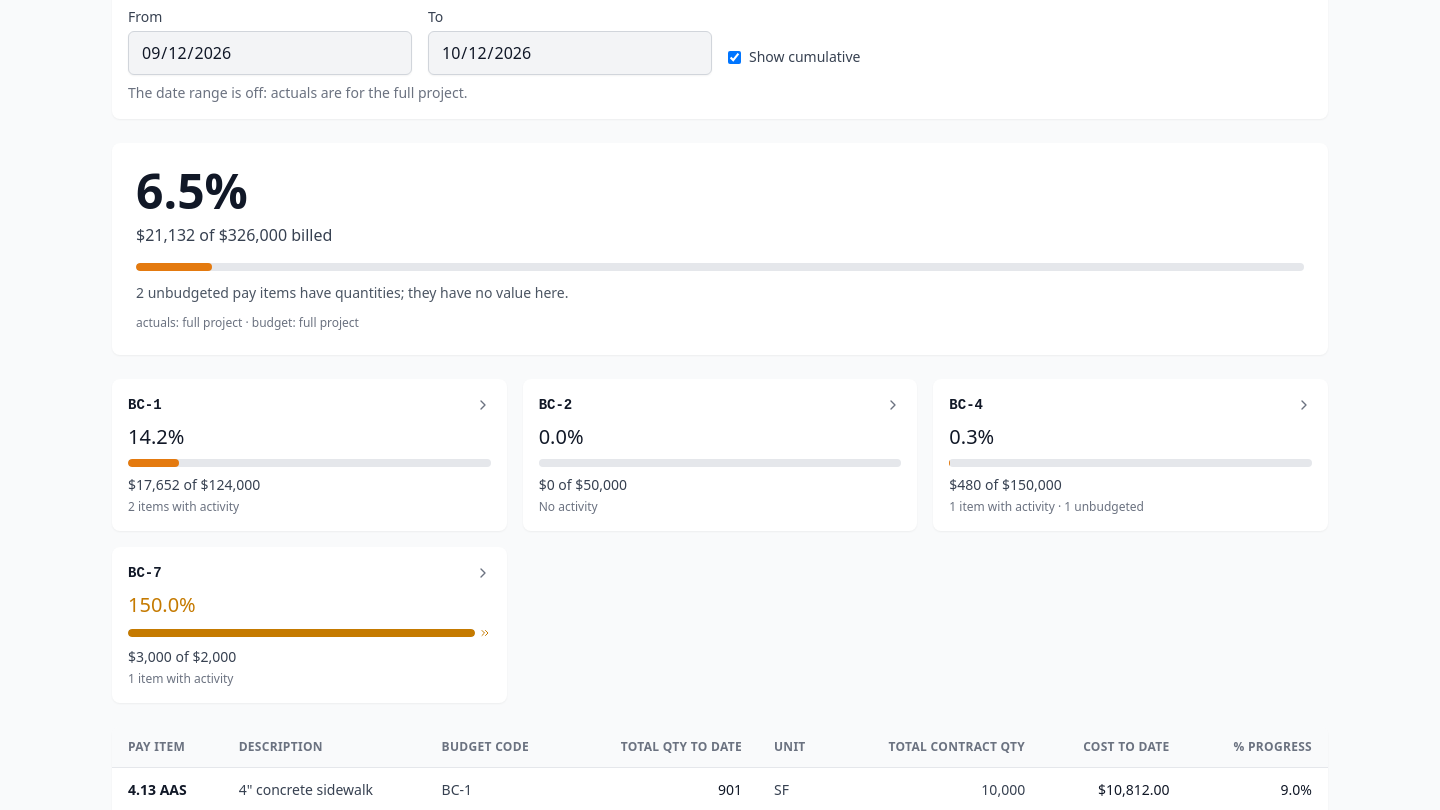
Test: ProgressPage — the budget codes › is folded to start; its name opens the items of that code, and closes them
This screenshot has width=1440, height=810.
(page scrolled)
Step 1. Click the button "BC-1" → (145, 405), box [128, 395, 491, 415]
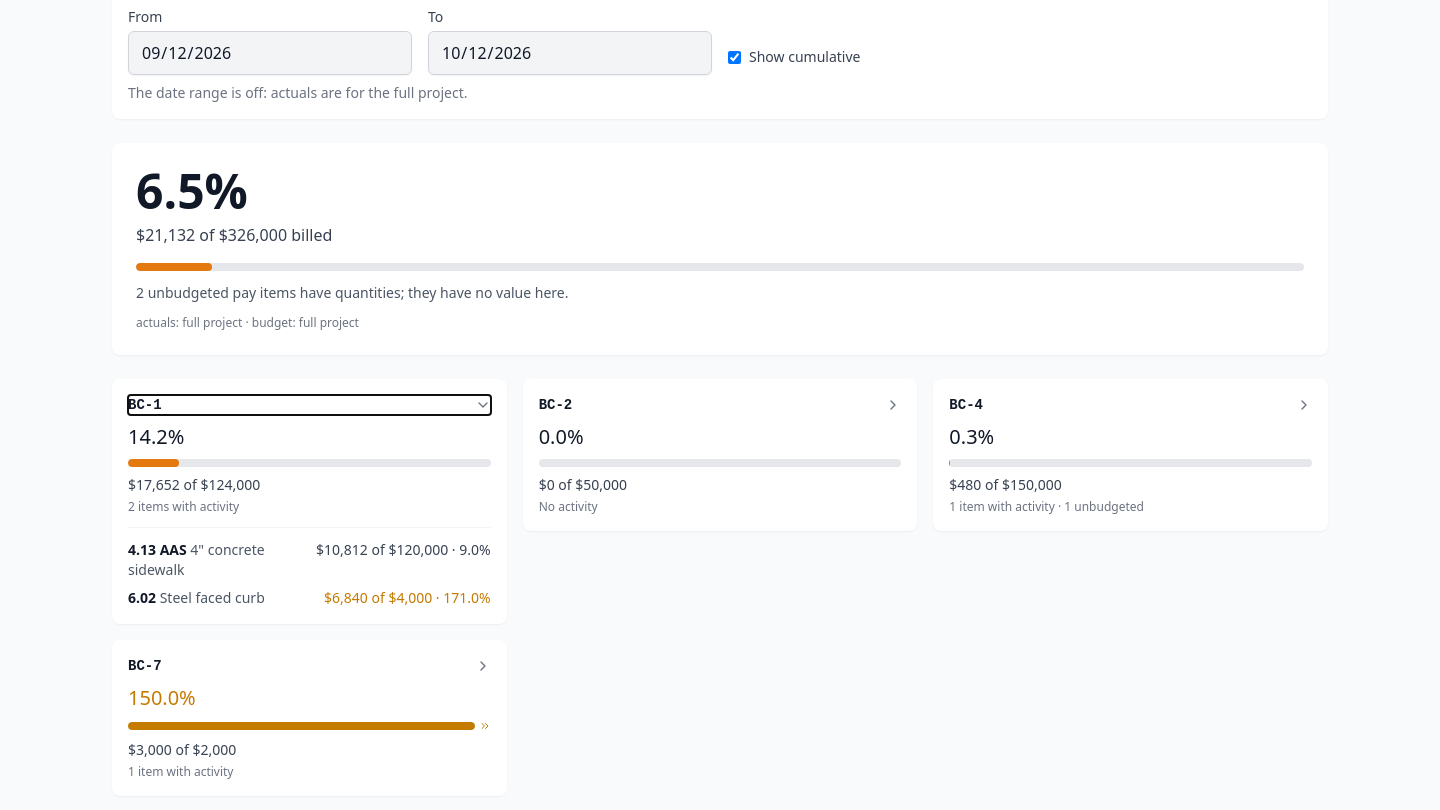
Check: the button "BC-1" is expanded
Check: the list items read "4.13 AAS 4\" concrete sidewalk$10,812 of $120,000 · 9.0%", "6.02 Steel faced curb$6,840 of $4,000 · 171.0%", in this order, box [128, 540, 491, 580]; [128, 588, 491, 608]
Step 2. Click the button "BC-1" → (145, 405), box [128, 395, 491, 415]
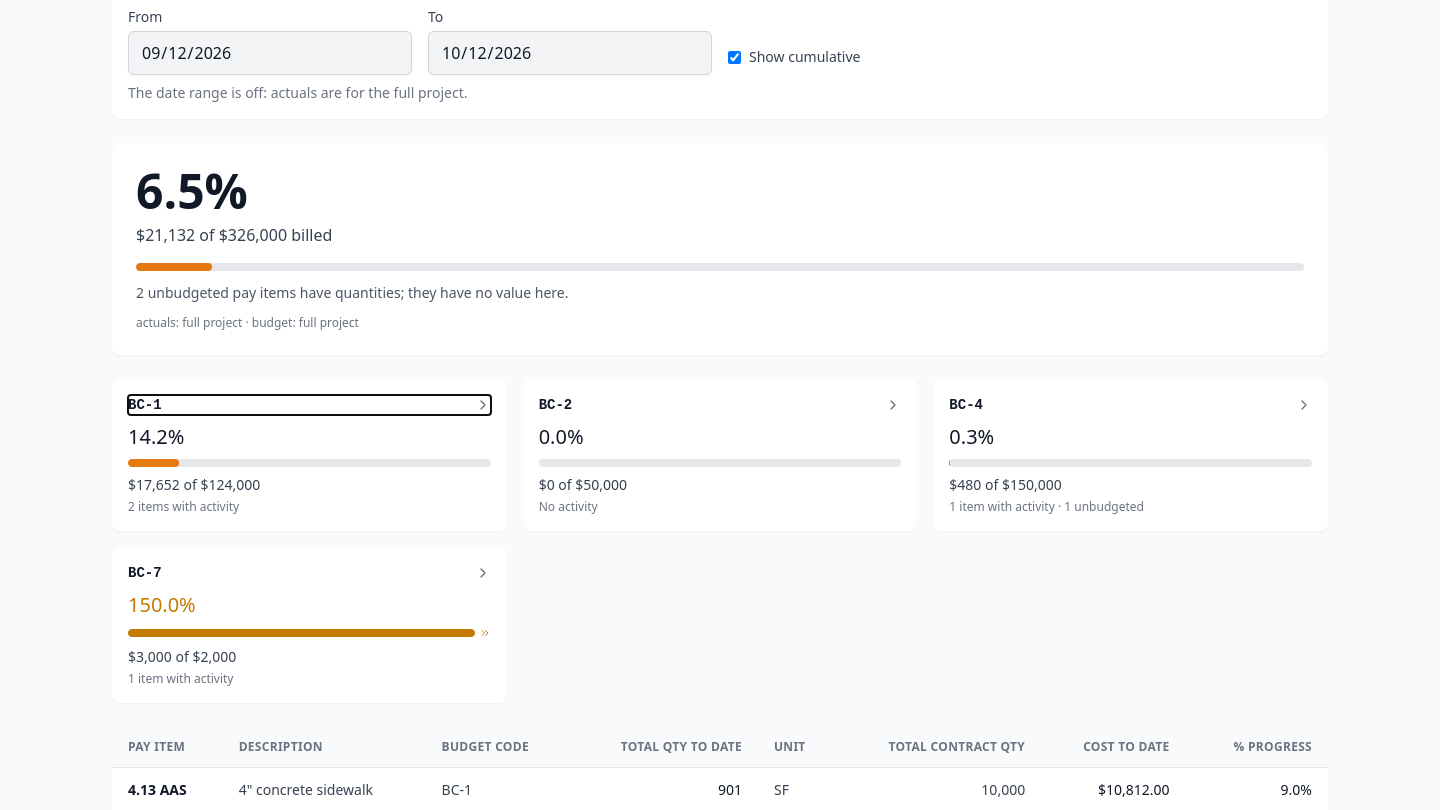
Check: the list is gone
